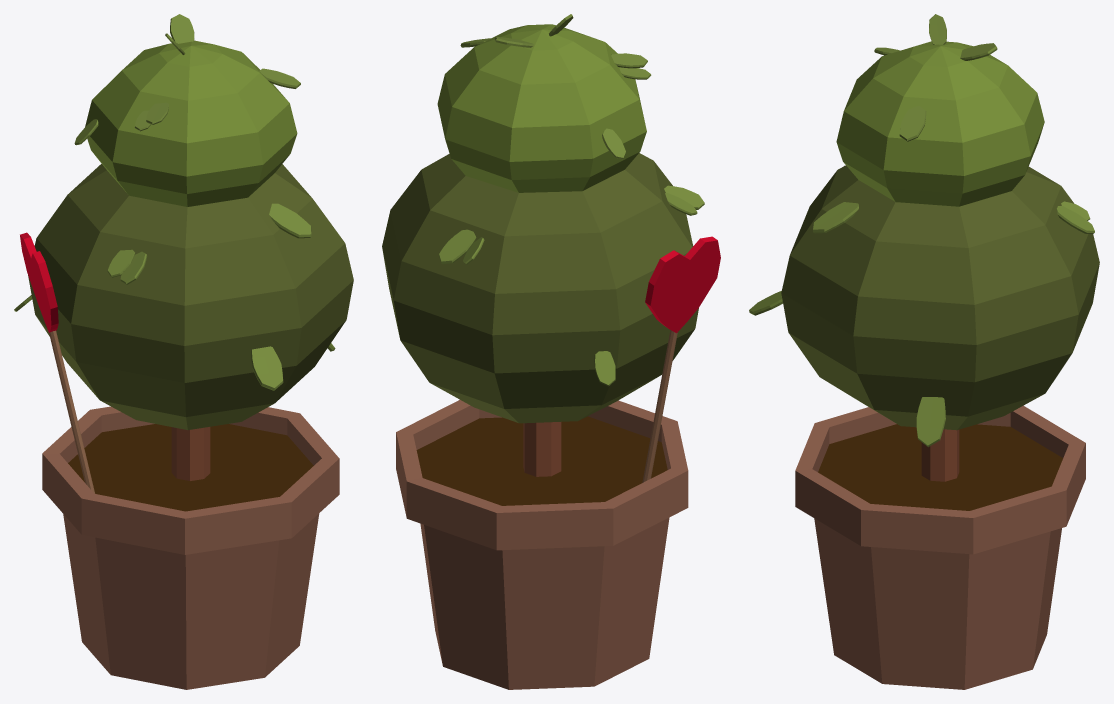
File: Bush_2.fbx
3 renders of one model, left to right at view 1: azimuth 30°, elevation 25°; view 2: azimuth 150°, elevation 25°; view 3: azimuth 270°, elevation 25°, orthographic. The views are drawn at different scales.
Visible parts, largest first — view 1: Cylinder.1358, Cylinder.1360, Plane.556, Cylinder.1359; view 2: Cylinder.1358, Cylinder.1360, Cylinder.1359, Plane.556; view 3: Cylinder.1358, Cylinder.1360, Plane.556.
Boxes of the visible parts, <box> form: Cylinder.1358: <box>28,40,353,480</box>; Cylinder.1360: <box>42,406,339,689</box>; Plane.556: <box>14,14,335,390</box>; Cylinder.1359: <box>20,232,95,493</box>; Cylinder.1358: <box>382,24,698,476</box>; Cylinder.1360: <box>396,400,688,689</box>; Cylinder.1359: <box>642,236,720,482</box>; Plane.556: <box>439,14,704,386</box>; Cylinder.1358: <box>781,41,1099,481</box>; Cylinder.1360: <box>795,405,1085,689</box>; Plane.556: <box>749,14,1094,447</box>.
Bounding box in the file's own units: 108 × 212 × 109.
